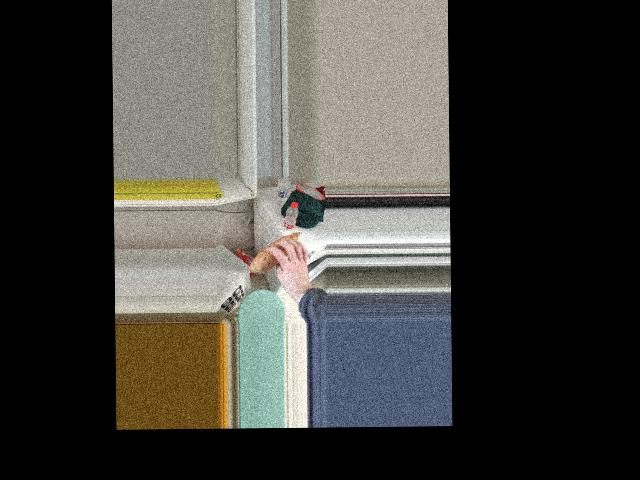sweet_potato: (253, 233, 305, 271)
